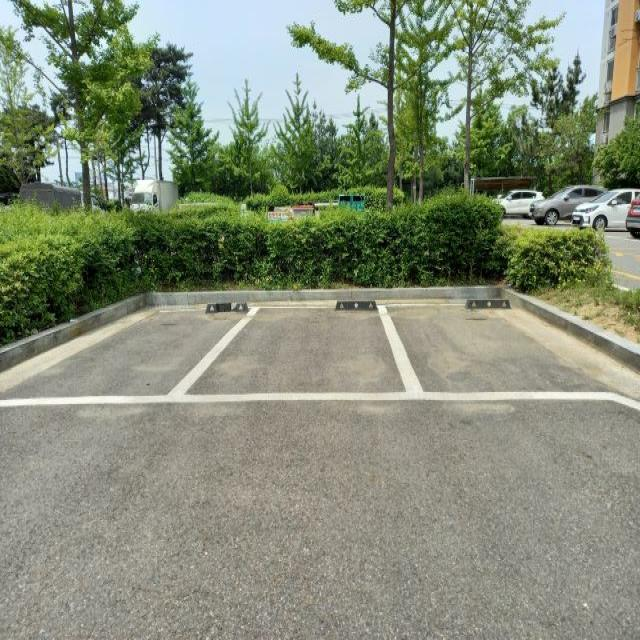empty: (390, 287, 595, 399), (29, 292, 238, 399), (250, 298, 396, 402)
